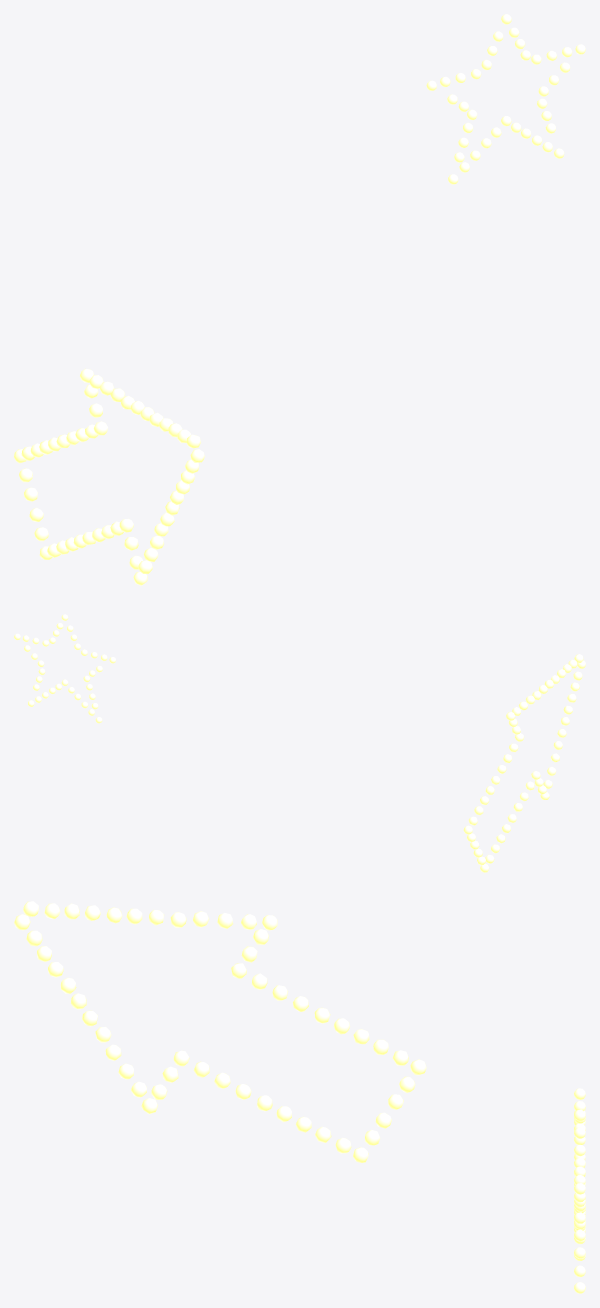
Rendered from ballFbx.fbx.
3 renders of one model, top to bottom at view 1: azimuth 30°, elevation 25°; view 2: azimuth 150°, elevation 25°; view 3: azimuth 270°, elevation 25°, orthographic. The views are drawn at different scales.
Visible parts, largest first — view 1: 球, 球_004; view 2: 球, 球_004; view 3: 球, 球_004.
Part boxes in pixels (x1=…): 球: x1=14, y1=368, x2=204, y2=585; 球_004: x1=426, y1=14, x2=585, y2=184; 球: x1=463, y1=654, x2=585, y2=872; 球_004: x1=14, y1=614, x2=115, y2=723; 球: x1=14, y1=901, x2=426, y2=1162; 球_004: x1=574, y1=1088, x2=585, y2=1293.
Bounding box in the file's own units: 1150 × 578 × 791.
